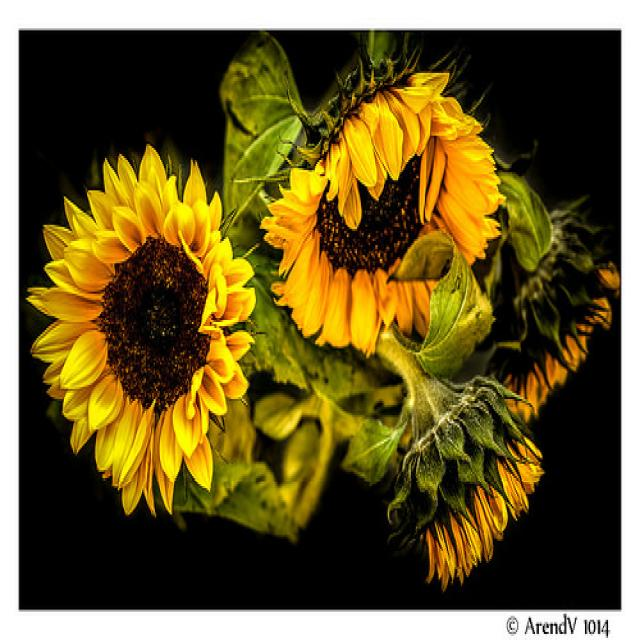sunflower: (24, 130, 258, 520), (265, 66, 502, 361), (385, 377, 548, 598)
